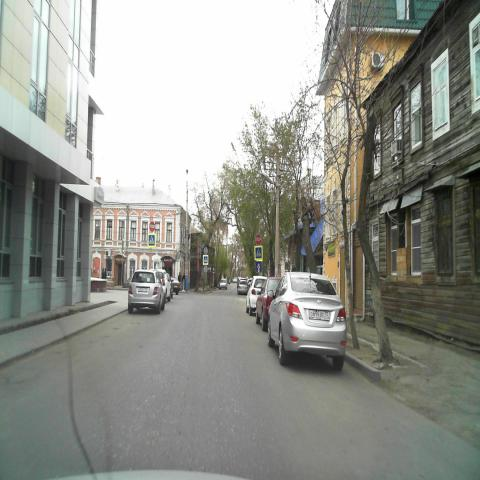2_5: (148, 220, 155, 232), (255, 233, 260, 244)
5_19_1: (254, 246, 263, 261), (148, 235, 156, 248), (202, 254, 208, 265)
5_6: (256, 261, 262, 273)
